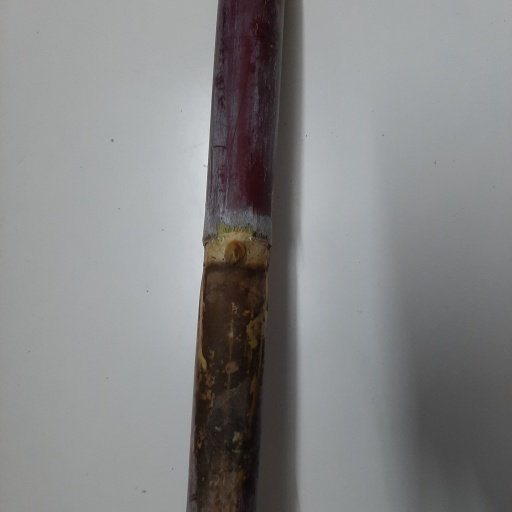Bud: (223, 239, 246, 268)
